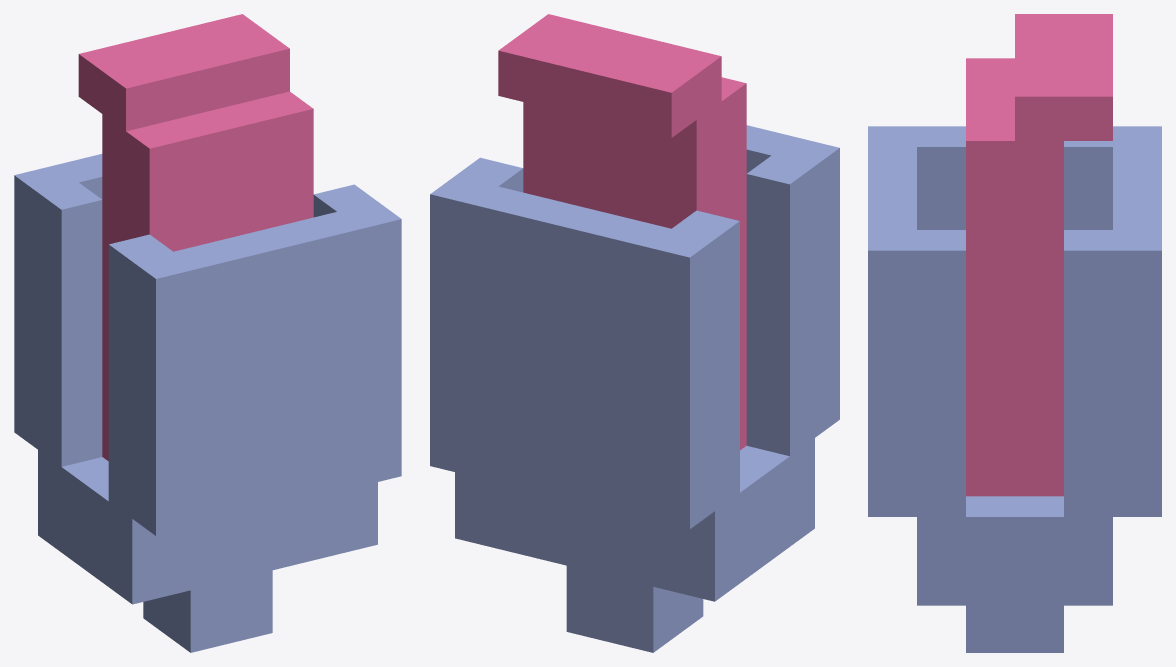
Rendered from Clam.dae.
3 renders of one model, left to right at view 1: azimuth 30°, elevation 25°; view 2: azimuth 150°, elevation 25°; view 3: azimuth 270°, elevation 25°, orthographic. The views are drawn at different scales.
Parts seen in each view (by area): view 1: Clam; view 2: Clam; view 3: Clam.
Part boxes in pixels (left/top/right/bottom): Clam: left=14, top=14, right=401, bottom=652; Clam: left=430, top=14, right=839, bottom=652; Clam: left=868, top=14, right=1161, bottom=652.
Size of the model in its own units: 6 by 13 by 6.
1 material, 1 textured.
